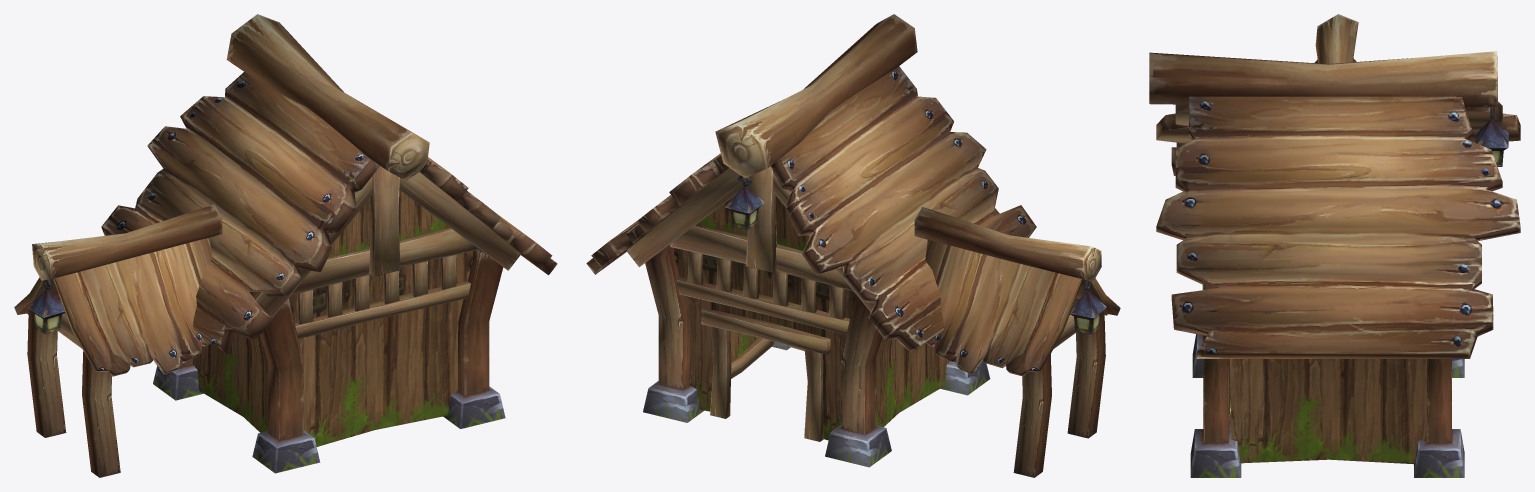
File: GM_woodhouse_01.FBX
The picture shows the model from 3 angles, left to right: view 1: azimuth 30°, elevation 25°; view 2: azimuth 150°, elevation 25°; view 3: azimuth 270°, elevation 25°; orthographic projection. The views are drawn at different scales.
Parts seen in each view (by area): view 1: GM_woodhouse_01; view 2: GM_woodhouse_01; view 3: GM_woodhouse_01.
Boxes of the visible parts, left/top/right/bottom form: GM_woodhouse_01: left=14, top=14, right=557, bottom=477; GM_woodhouse_01: left=586, top=14, right=1120, bottom=477; GM_woodhouse_01: left=1149, top=14, right=1520, bottom=477.
Bounding box in the file's own units: 8.53 × 5.83 × 5.35.
